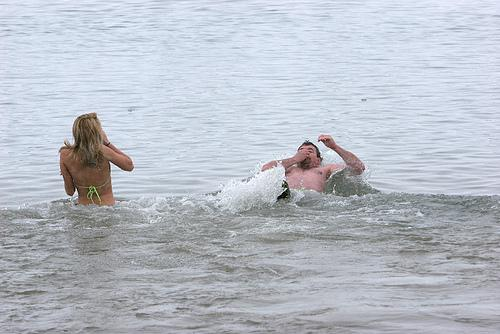swimmer: (57, 110, 134, 211), (259, 134, 366, 197)
